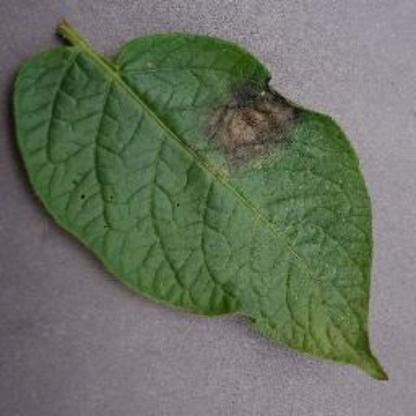Late-Blight: (10, 12, 396, 388)
